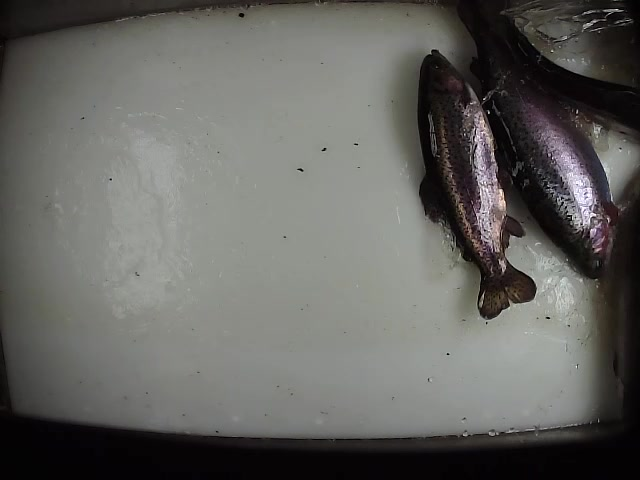fish: (454, 1, 616, 285), (414, 46, 538, 323)
